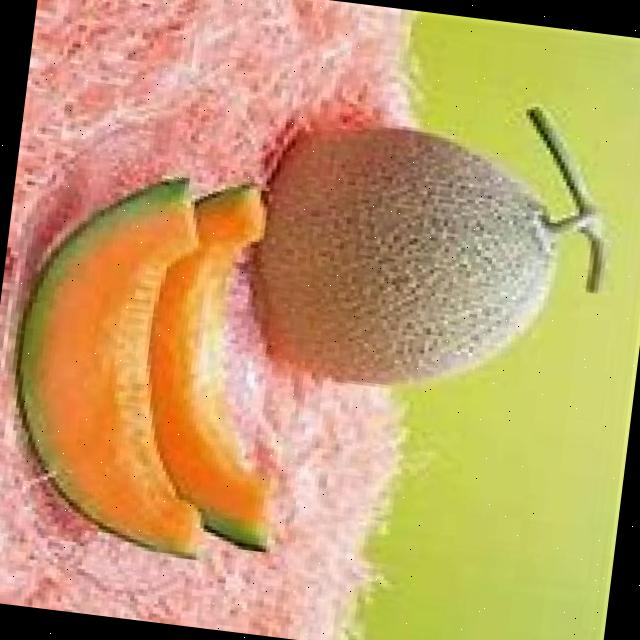Hami Melon: (236, 112, 568, 408)
